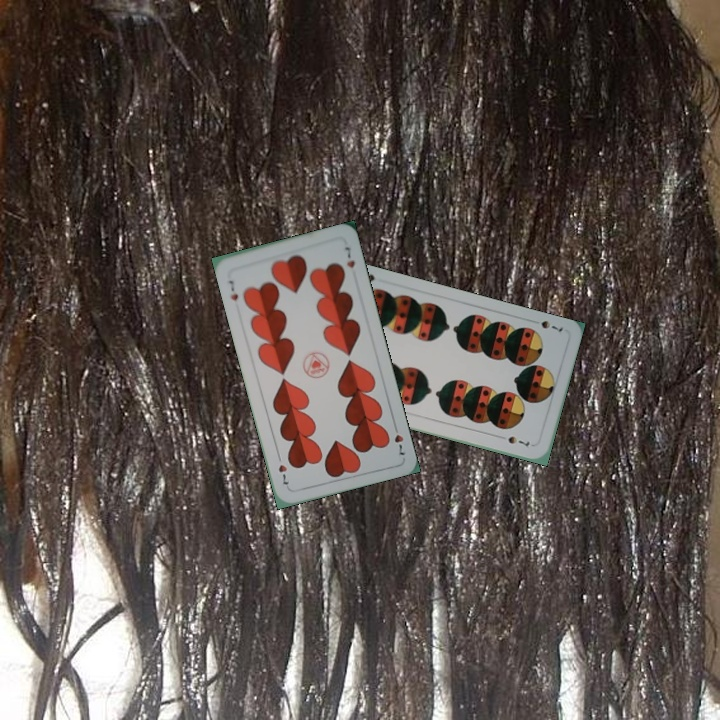H7: (389, 420, 407, 458), (225, 276, 241, 303)
S7: (537, 316, 565, 334)
